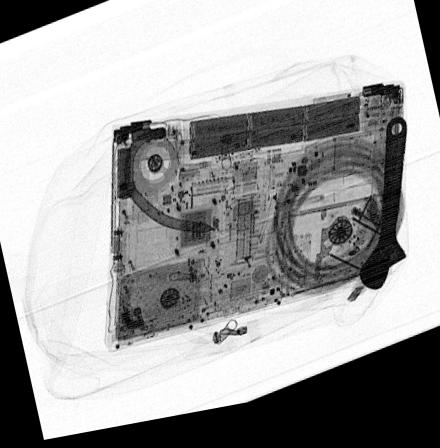Wrench: (357, 128, 407, 305)
